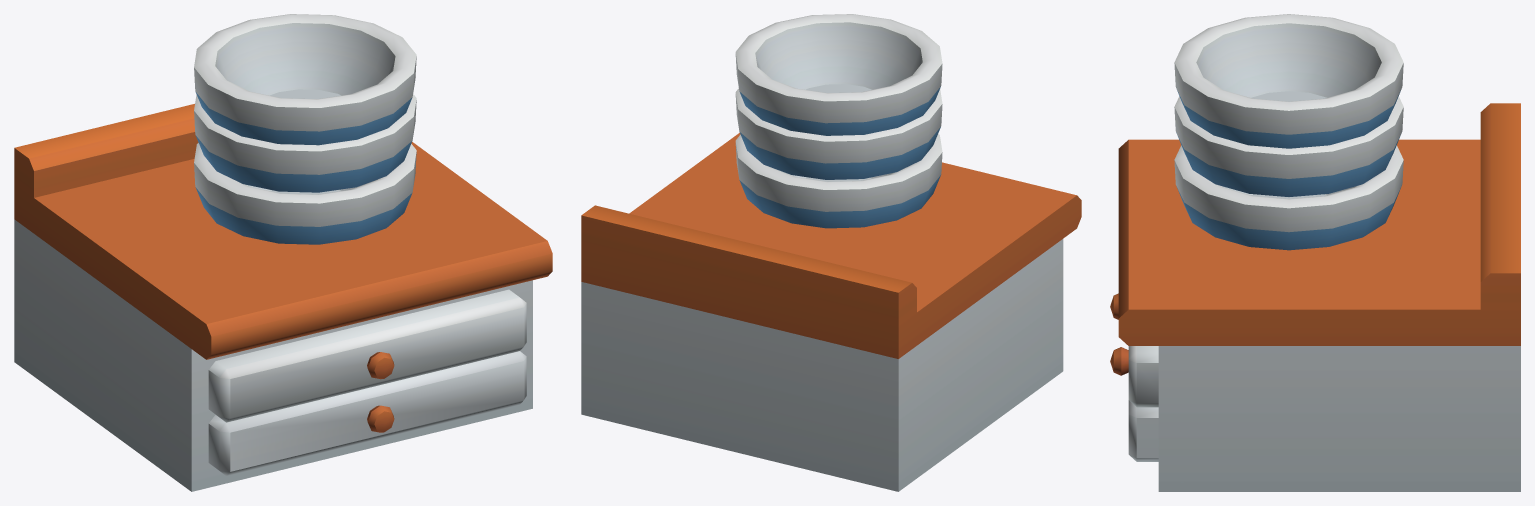
The model's file is bow_counter.glb.
3 views of the same model, side by side, from view 1: azimuth 30°, elevation 25°; view 2: azimuth 150°, elevation 25°; view 3: azimuth 270°, elevation 25° (orthographic). The views are drawn at different scales.
Visible parts, largest first — view 1: kitchencounter_straight_A_backsplash, icecream_bowl5, icecream_bowl, icecream_bowl4; view 2: kitchencounter_straight_A_backsplash, icecream_bowl5, icecream_bowl, icecream_bowl4; view 3: kitchencounter_straight_A_backsplash, icecream_bowl5, icecream_bowl, icecream_bowl4.
Boxes of the visible parts, x1,y1,x2,y2 form: kitchencounter_straight_A_backsplash: (14,104,552,491); icecream_bowl5: (194,14,416,145); icecream_bowl: (194,143,416,244); icecream_bowl4: (194,94,416,192); kitchencounter_straight_A_backsplash: (581,132,1081,491); icecream_bowl5: (735,14,942,135); icecream_bowl: (735,133,942,228); icecream_bowl4: (735,88,942,179); kitchencounter_straight_A_backsplash: (1110,103,1520,491); icecream_bowl5: (1174,14,1403,148); icecream_bowl: (1174,145,1403,250); icecream_bowl4: (1174,96,1403,196).
Size of the model in its own units: 2 by 1.93 by 2.04.
Materials: 2 (2 with a texture image).
